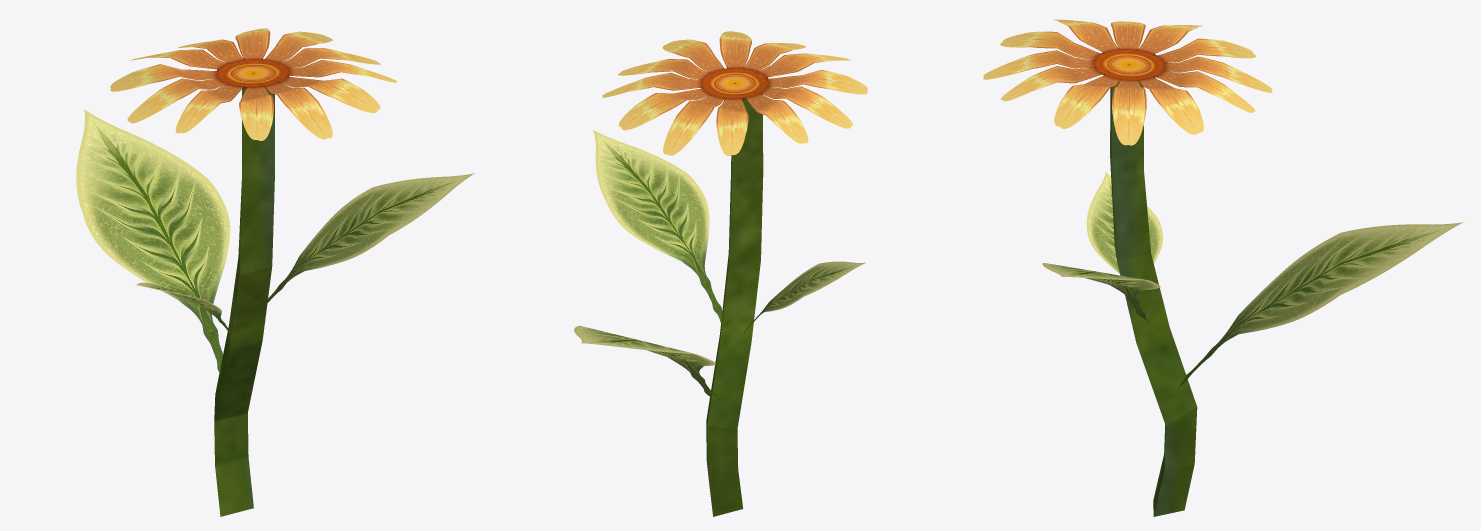
File: flower_5.fbx
3 views of the same model, side by side, from view 1: azimuth 30°, elevation 25°; view 2: azimuth 150°, elevation 25°; view 3: azimuth 270°, elevation 25° (orthographic). The views are drawn at different scales.
Visible parts, largest first — view 1: Plane.014; view 2: Plane.014; view 3: Plane.014.
Boxes of the visible parts, x1=… form: Plane.014: x1=76, y1=28, x2=474, y2=516; Plane.014: x1=574, y1=31, x2=867, y2=516; Plane.014: x1=983, y1=19, x2=1463, y2=516.
Bounding box in the file's own units: 76.56 × 95.04 × 94.31.
